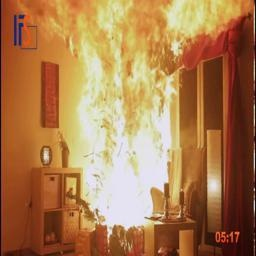fire: (51, 0, 199, 233)
